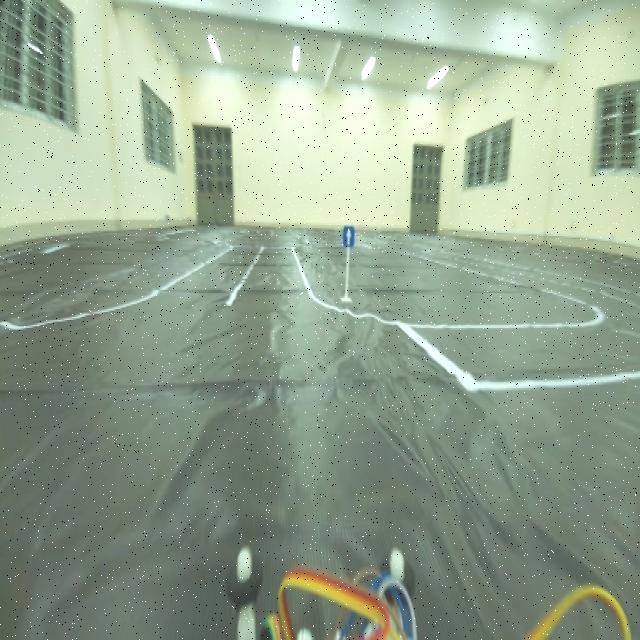onewayroad: (336, 219, 355, 256)
